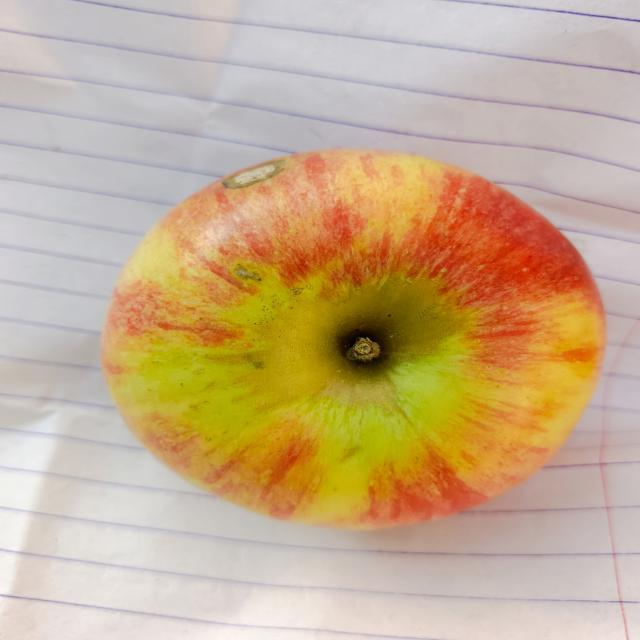Fresh Apple: (97, 145, 604, 532)
